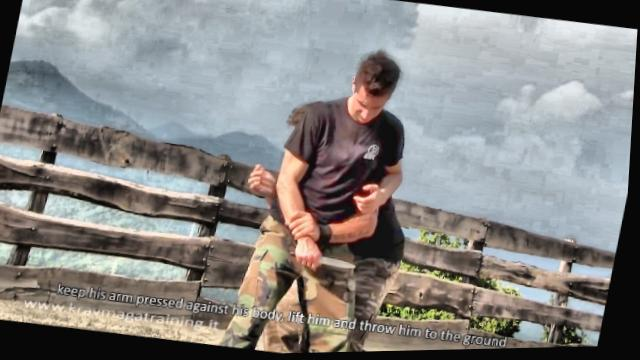knife: (286, 243, 366, 276)
